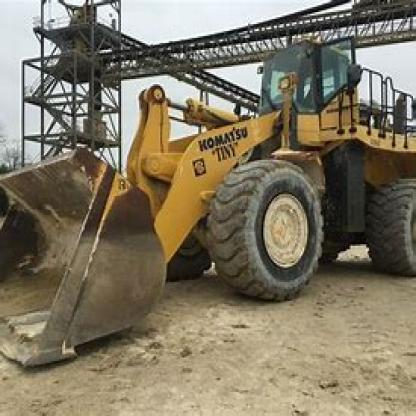bull_dozer/loader/grader: (1, 31, 414, 387)
